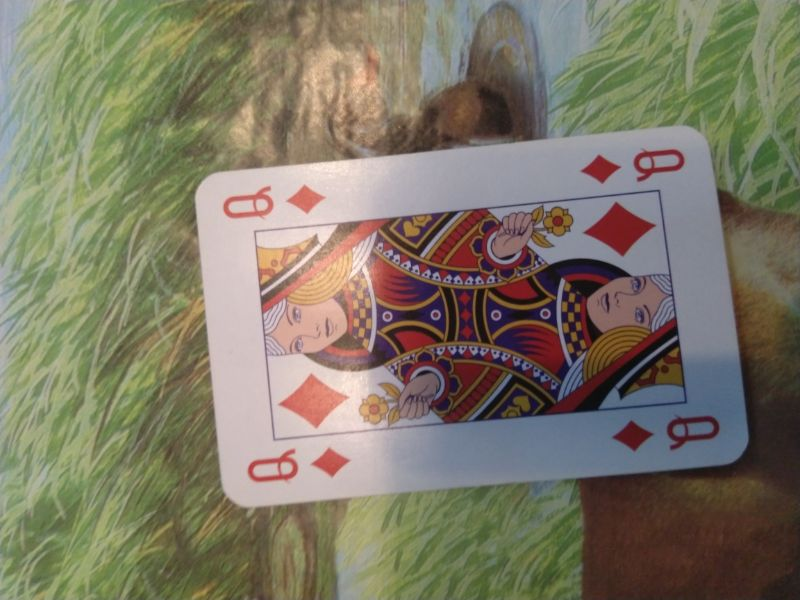Qd: (240, 441, 354, 487), (576, 142, 689, 188), (220, 175, 329, 222), (607, 412, 725, 453)
